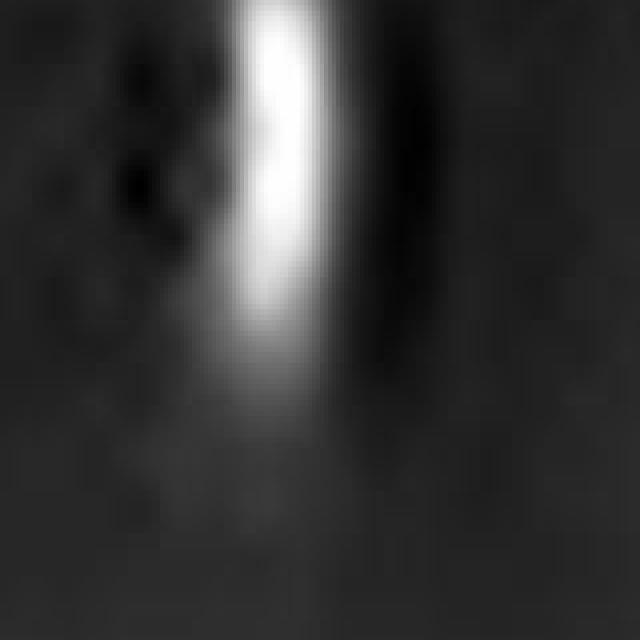person: (165, 1, 377, 444)
